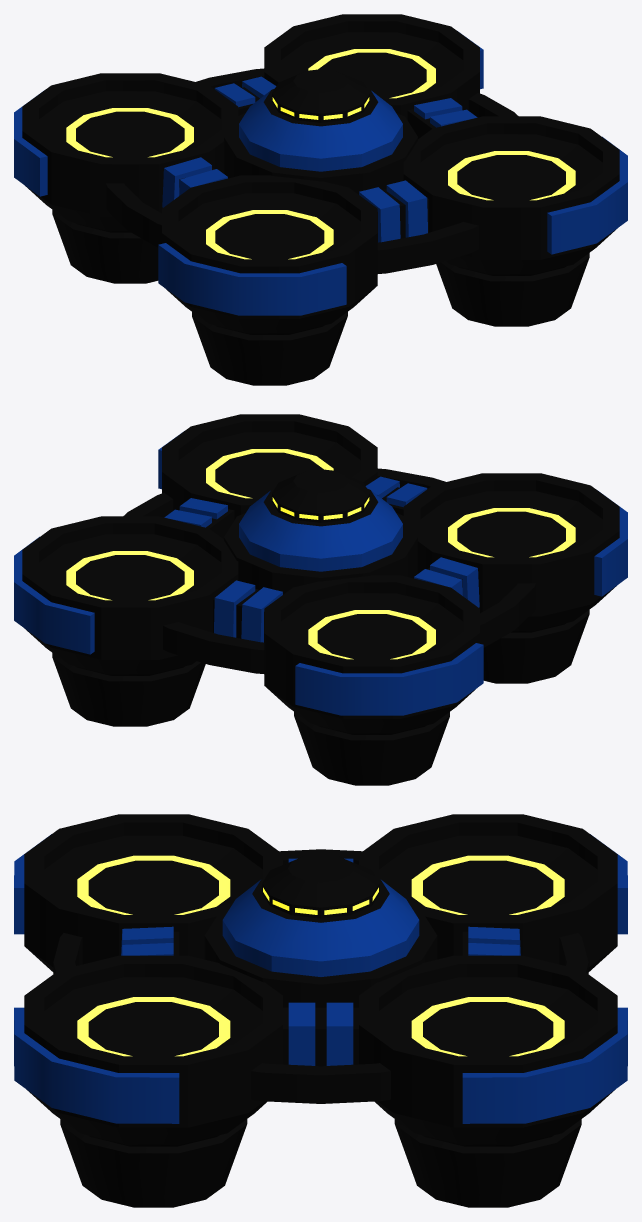
The model's file is 01_yard_drone.glb.
3 views of the same model, one above another, from view 1: azimuth 30°, elevation 25°; view 2: azimuth 150°, elevation 25°; view 3: azimuth 270°, elevation 25° (orthographic). The views are drawn at different scales.
Visible parts, largest first — view 1: 01_yard_drone; view 2: 01_yard_drone; view 3: 01_yard_drone.
Part boxes in pixels (<box>): 01_yard_drone: <box>14,14,627,385</box>; 01_yard_drone: <box>14,414,627,785</box>; 01_yard_drone: <box>14,814,627,1207</box>.
Bounding box in the file's own units: 0.9176 × 0.4175 × 0.9176.
